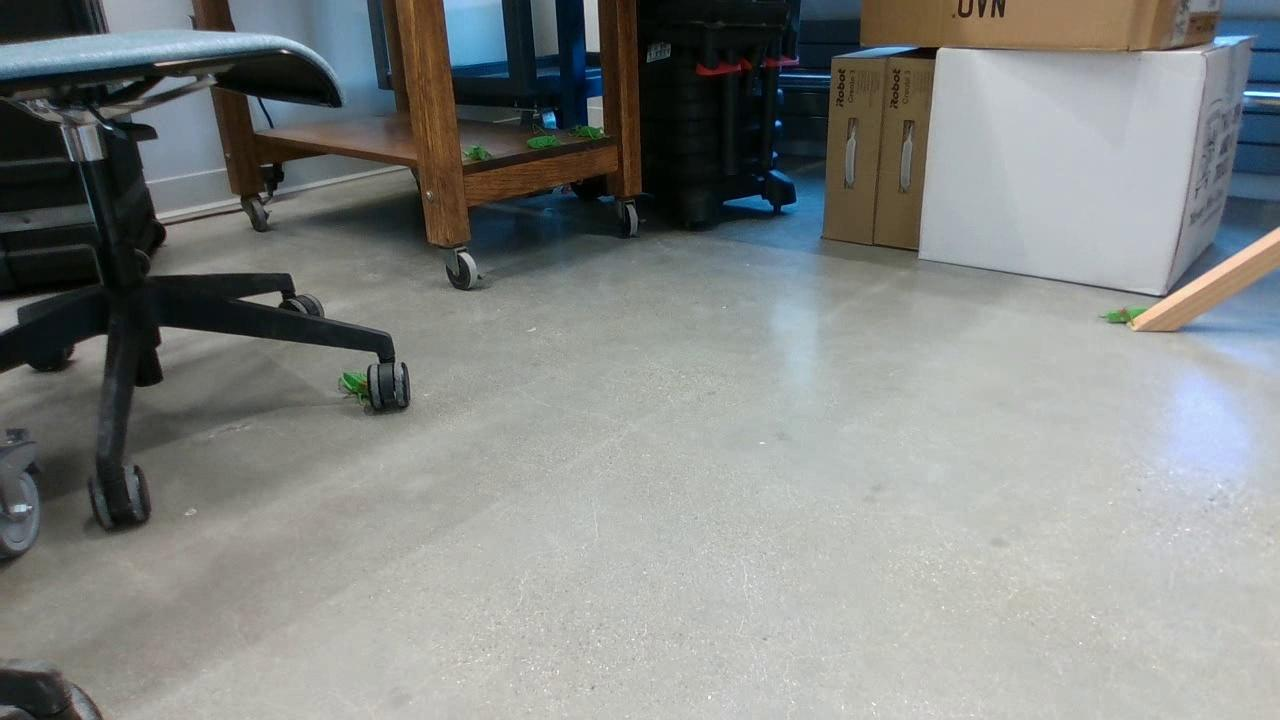grasshopper: (317, 363, 385, 416), (1093, 302, 1151, 333), (507, 126, 559, 150), (458, 143, 496, 170), (567, 121, 611, 144)
